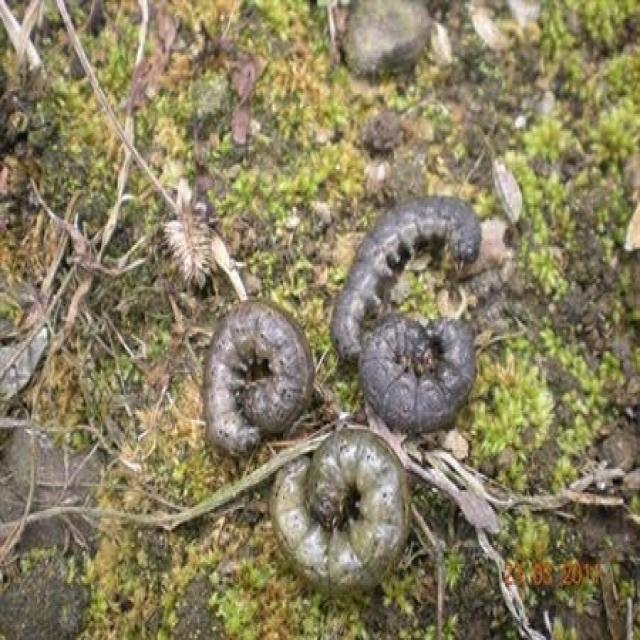black cutworm: (263, 418, 431, 587), (331, 186, 485, 359), (192, 293, 320, 450), (359, 312, 485, 428)
